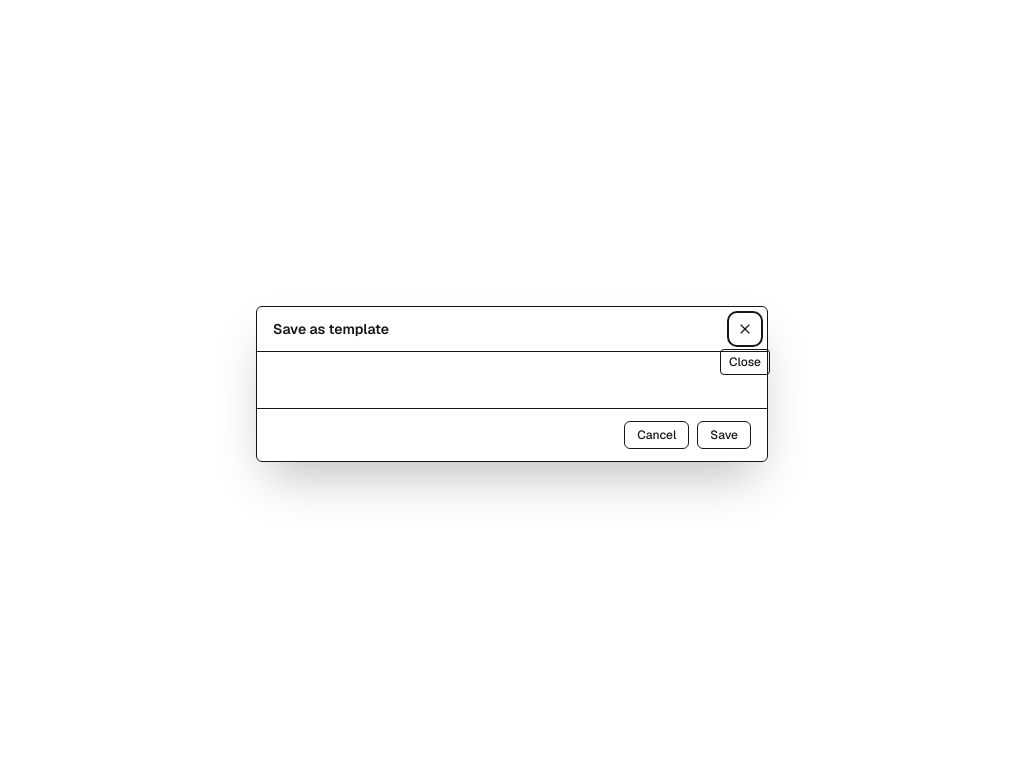
Test: says the changes are not saved when they cannot be
Click the button "Save" at (724, 435), box top-left (697, 421), bottom-right (751, 449)
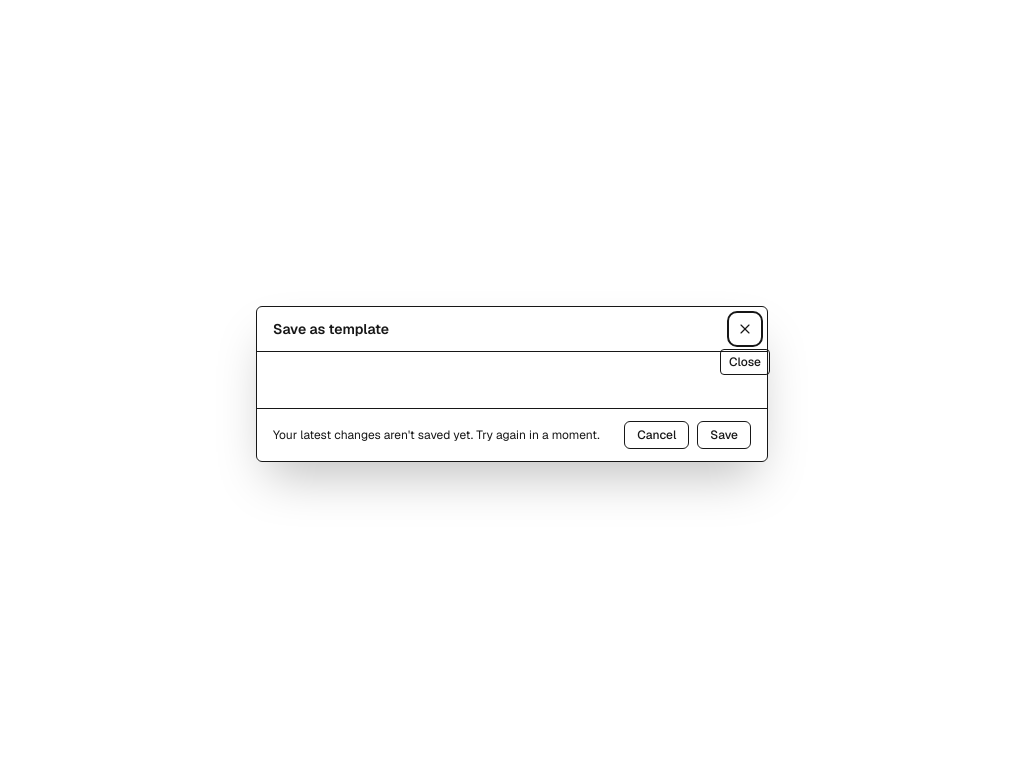
Result: the text "Your latest changes aren't saved yet. Try again in a moment." is shown at top-left (273, 427), bottom-right (600, 443)
